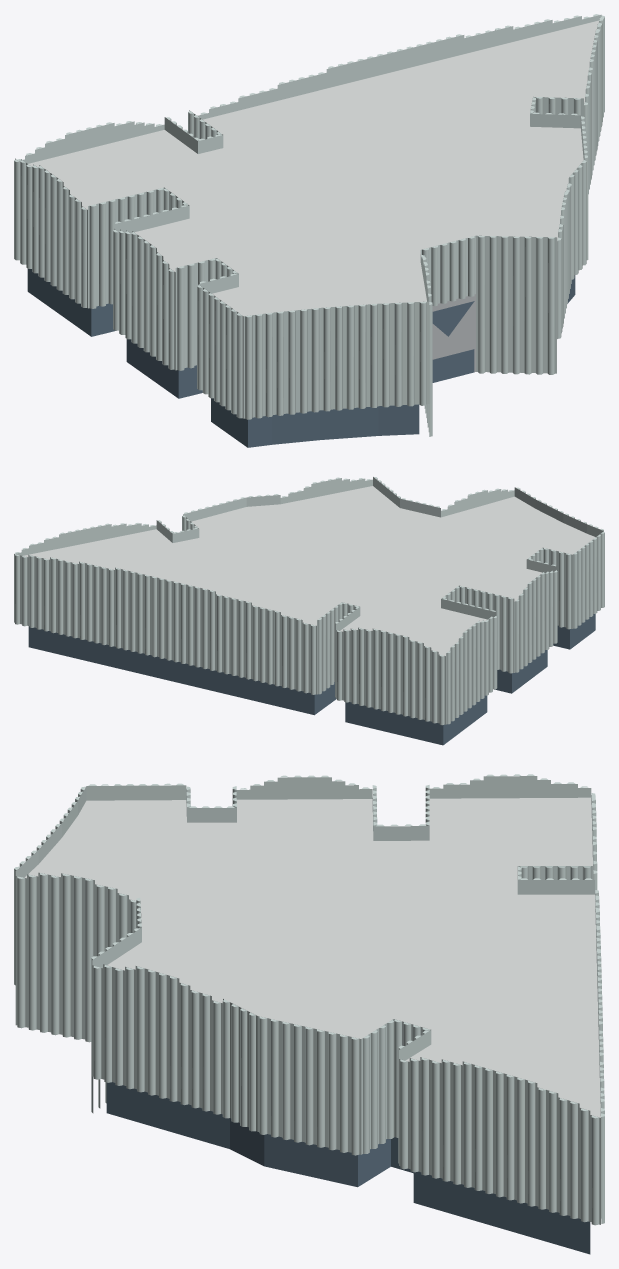
The model's file is hou-mfah-kinder-building.glb.
The picture shows the model from 3 angles, top to bottom: view 1: azimuth 30°, elevation 25°; view 2: azimuth 150°, elevation 25°; view 3: azimuth 270°, elevation 25°; orthographic projection. The views are drawn at different scales.
Parts seen in each view (by area): view 1: Nancy and Rich Kinder Building; view 2: Nancy and Rich Kinder Building; view 3: Nancy and Rich Kinder Building.
Boxes of the visible parts, x1=… form: Nancy and Rich Kinder Building: x1=14, y1=14, x2=604, y2=447; Nancy and Rich Kinder Building: x1=14, y1=477, x2=604, y2=745; Nancy and Rich Kinder Building: x1=14, y1=774, x2=604, y2=1254.
Size of the model in its own units: 95.95 by 22 by 73.04.
